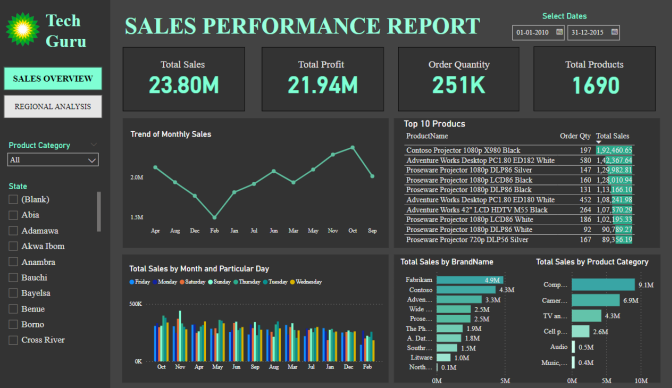

This screenshot's page, from the dashboard's own definition file:
{"tool":"powerbi","page":{"name":"SALES OVERVIEW","canvas":[1440,840],"ordinal":0},"visuals":[{"type":"shape","box":[0,0,246.2,841.4],"z":0},{"type":"image","box":[18.3,12.7,85.8,115.4],"z":1000},{"type":"textbox","box":[271.6,32.4,782.3,76],"z":2000},{"type":"textbox","box":[104.1,25.3,126.6,115.4],"z":3000},{"type":"shape","box":[272.9,108.6,258.6,135.7],"z":4000},{"type":"card","fields":{"Values":["Measures_.Total Sales"]},"box":[302.9,148.6,200,67.1],"z":4001},{"type":"textbox","box":[347.1,128.6,111.4,38.6],"z":4002},{"type":"shape","box":[567.1,108.6,258.6,135.7],"z":4003},{"type":"card","fields":{"Values":["Measures_.Total Profit"]},"box":[597.1,148.6,200,67.1],"z":4004},{"type":"textbox","box":[638.6,128.6,117.1,38.6],"z":4005},{"type":"shape","box":[855.7,108.6,257.1,135.7],"z":4006},{"type":"card","fields":{"Values":["Sum(Sales_Data.Order Qty)"]},"box":[884.3,148.6,200,67.1],"z":4007},{"type":"textbox","box":[908.6,128.6,151.4,38.6],"z":4008},{"type":"shape","box":[1142.9,107.1,258.6,137.1],"z":4009},{"type":"card","fields":{"Values":["Count(Sales_Product.ProductName)"]},"box":[1172.9,150,200,65.7],"z":4010},{"type":"textbox","box":[1191.4,128.6,158.6,38.6],"z":4011},{"type":"shape","box":[272.9,258.6,562.9,260],"z":4012},{"type":"shape","box":[272.9,530,562.9,288.6],"z":4013},{"type":"shape","box":[845.7,258.6,564.3,260],"z":4014},{"type":"shape","box":[845.7,530,564.3,288.6],"z":4015},{"type":"lineChart","title":"Trend of Monthly Sales ","fields":{"Y":["Measures_.Total Sales"],"Category":["Dates.Date Hierarchy.Date","Dates.Date Hierarchy.Year","Dates.Date Hierarchy.Month"]},"box":[287.1,270,538.6,230],"z":4016},{"type":"clusteredColumnChart","title":"Total Sales by Month and Particular Day","fields":{"Y":["Measures_.Total Sales"],"Category":["Dates.Month"],"Series":["Dates.DayName"]},"box":[855.7,270,545.7,234.3],"z":4017},{"type":"tableEx","title":"Top 10 Producs","fields":{"Values":["Sales_Product.ProductName","Sum(Sales_Data.Order Qty)","Measures_.Total Sales"]},"box":[288.3,536.7,538.3,278.3],"z":4018},{"type":"clusteredBarChart","fields":{"Y":["Measures_.Total Sales"],"Category":["Sales_Product.BrandName"]},"box":[855,536.7,273.3,278.3],"z":4019},{"type":"clusteredBarChart","fields":{"Y":["Measures_.Total Sales"],"Category":["Sales_Product_Sub_Cat.Product Category"]},"box":[1143.3,536.7,273.3,278.3],"z":4020},{"type":"slicer","title":"Select Dates ","fields":{"Values":["Dates.Date"]},"box":[1085,31.7,246.7,66.7],"z":4021},{"type":"slicer","fields":{"Values":["Sales_Product_Sub_Cat.Product Category"]},"box":[18.3,301.7,213.3,86.7],"z":4022},{"type":"slicer","fields":{"Values":["Sales_State.State"]},"box":[18.3,388.3,213.3,356.7],"z":4023},{"type":"pageNavigator","box":[21.7,150,208.3,108.3],"z":4024}]}

Visuals, with their boxes in screenshot pixels (x1, y1, x2, y2), scaled from the page's 1440x840 canvas onto the 672x388 screenshot:
shape: (left=0, top=0, right=115, bottom=387)
image: (left=9, top=6, right=49, bottom=59)
textbox: (left=127, top=15, right=492, bottom=50)
textbox: (left=49, top=12, right=108, bottom=65)
shape: (left=127, top=50, right=248, bottom=113)
card - Measures_.Total Sales: (left=141, top=69, right=235, bottom=100)
textbox: (left=162, top=59, right=214, bottom=77)
shape: (left=265, top=50, right=385, bottom=113)
card - Measures_.Total Profit: (left=279, top=69, right=372, bottom=100)
textbox: (left=298, top=59, right=353, bottom=77)
shape: (left=399, top=50, right=519, bottom=113)
card - Sum(Sales_Data.Order Qty): (left=413, top=69, right=506, bottom=100)
textbox: (left=424, top=59, right=495, bottom=77)
shape: (left=533, top=49, right=654, bottom=113)
card - Count(Sales_Product.ProductName): (left=547, top=69, right=641, bottom=100)
textbox: (left=556, top=59, right=630, bottom=77)
shape: (left=127, top=119, right=390, bottom=240)
shape: (left=127, top=245, right=390, bottom=378)
shape: (left=395, top=119, right=658, bottom=240)
shape: (left=395, top=245, right=658, bottom=378)
"Trend of Monthly Sales " lineChart: (left=134, top=125, right=385, bottom=231)
"Total Sales by Month and Particular Day" clusteredColumnChart: (left=399, top=125, right=654, bottom=233)
"Top 10 Producs" tableEx: (left=135, top=248, right=386, bottom=376)
clusteredBarChart - Measures_.Total Sales x Sales_Product.BrandName: (left=399, top=248, right=527, bottom=376)
clusteredBarChart - Measures_.Total Sales x Sales_Product_Sub_Cat.Product Category: (left=534, top=248, right=661, bottom=376)
"Select Dates " slicer: (left=506, top=15, right=621, bottom=45)
slicer - Sales_Product_Sub_Cat.Product Category: (left=9, top=139, right=108, bottom=179)
slicer - Sales_State.State: (left=9, top=179, right=108, bottom=344)
pageNavigator: (left=10, top=69, right=107, bottom=119)
